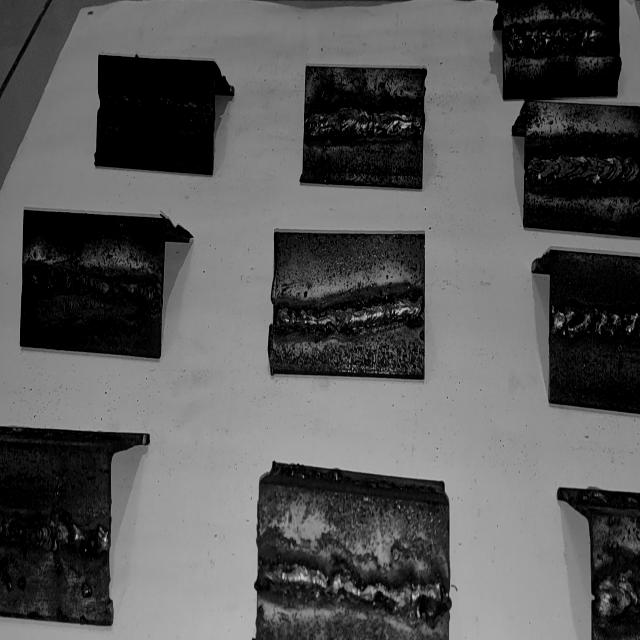Bad Weld: (23, 272, 159, 309), (507, 25, 618, 56), (552, 306, 640, 340)
Defect: (22, 272, 162, 305), (507, 21, 594, 58), (550, 308, 640, 338), (591, 572, 640, 620)
Good Weld: (260, 562, 446, 627), (276, 295, 424, 335), (98, 93, 214, 123), (307, 110, 422, 140), (1, 522, 107, 553), (528, 157, 638, 183)
